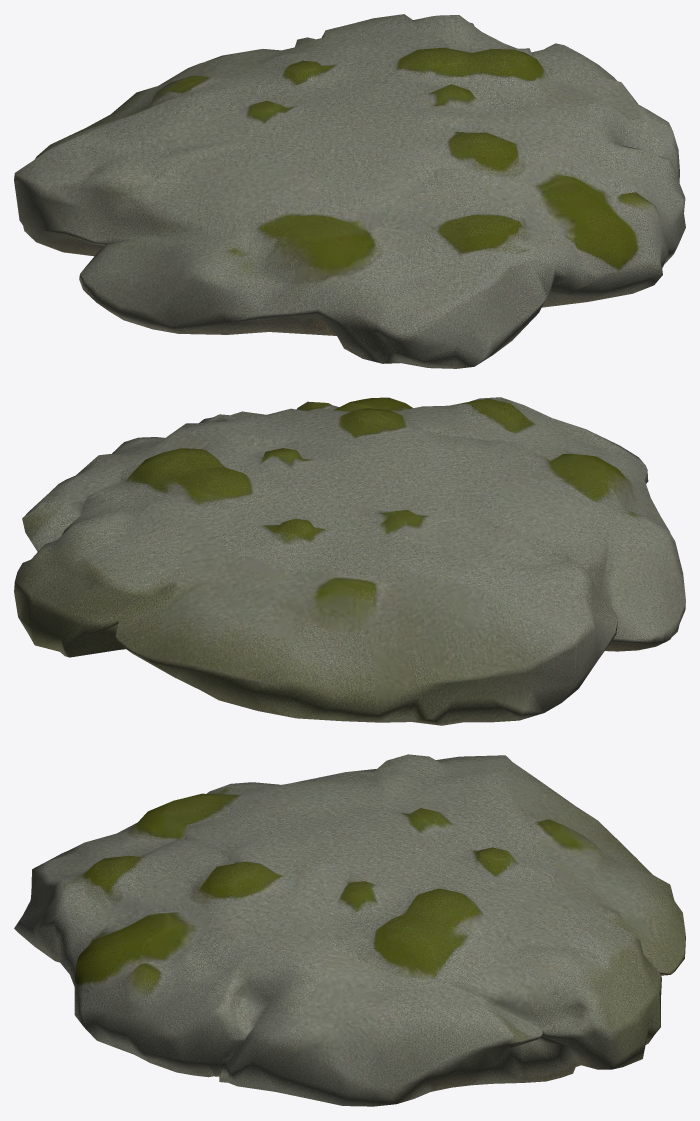
Rendered from rock-flat.glb.
The picture shows the model from 3 angles, top to bottom: view 1: azimuth 30°, elevation 25°; view 2: azimuth 150°, elevation 25°; view 3: azimuth 270°, elevation 25°; orthographic projection.
Size of the model in its own units: 0.9575 by 0.1889 by 0.9438.
Materials: 1 (1 with a texture image).
